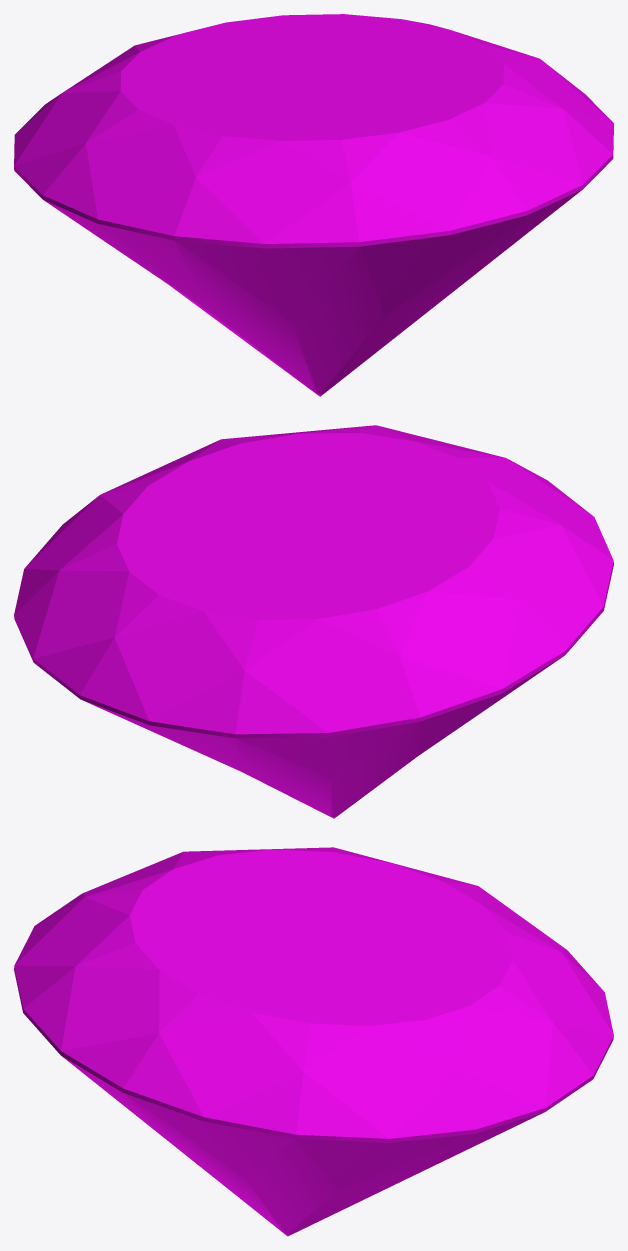
Rendered from Jewel.fbx.
The picture shows the model from 3 angles, top to bottom: view 1: azimuth 30°, elevation 25°; view 2: azimuth 150°, elevation 25°; view 3: azimuth 270°, elevation 25°; orthographic projection.
Visible parts, largest first — view 1: OBJ:uploads_files_612353_diamond:pCone1; view 2: OBJ:uploads_files_612353_diamond:pCone1; view 3: OBJ:uploads_files_612353_diamond:pCone1.
Part boxes in pixels (x1,y1,x2,y2): OBJ:uploads_files_612353_diamond:pCone1: [14, 14, 613, 396]; OBJ:uploads_files_612353_diamond:pCone1: [14, 425, 613, 818]; OBJ:uploads_files_612353_diamond:pCone1: [14, 847, 613, 1236].
Bounding box in the file's own units: 3.57 × 2.1 × 3.56.
